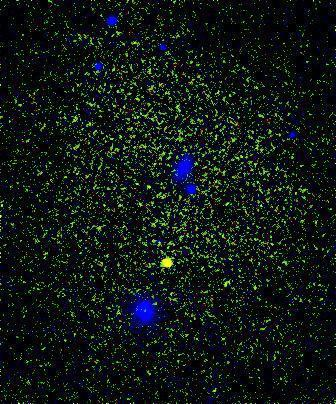star: (152, 247, 182, 277)
